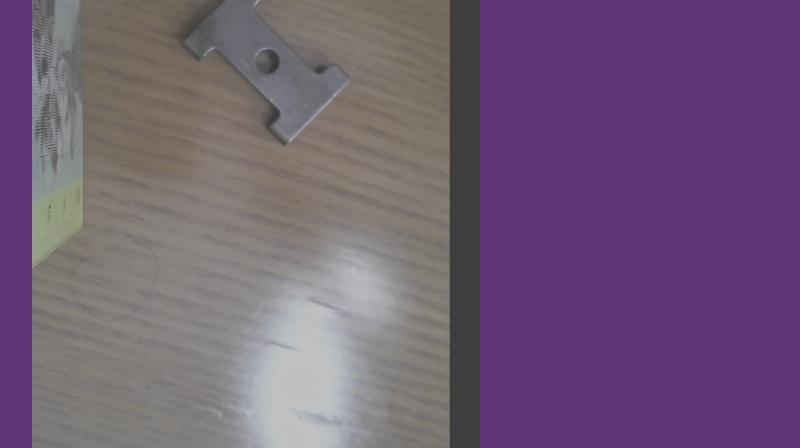O002: (178, 0, 355, 150)
